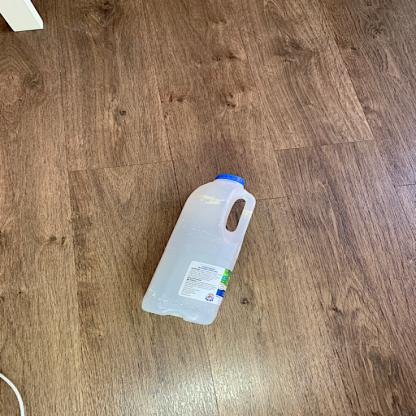trash: (139, 170, 261, 325)
